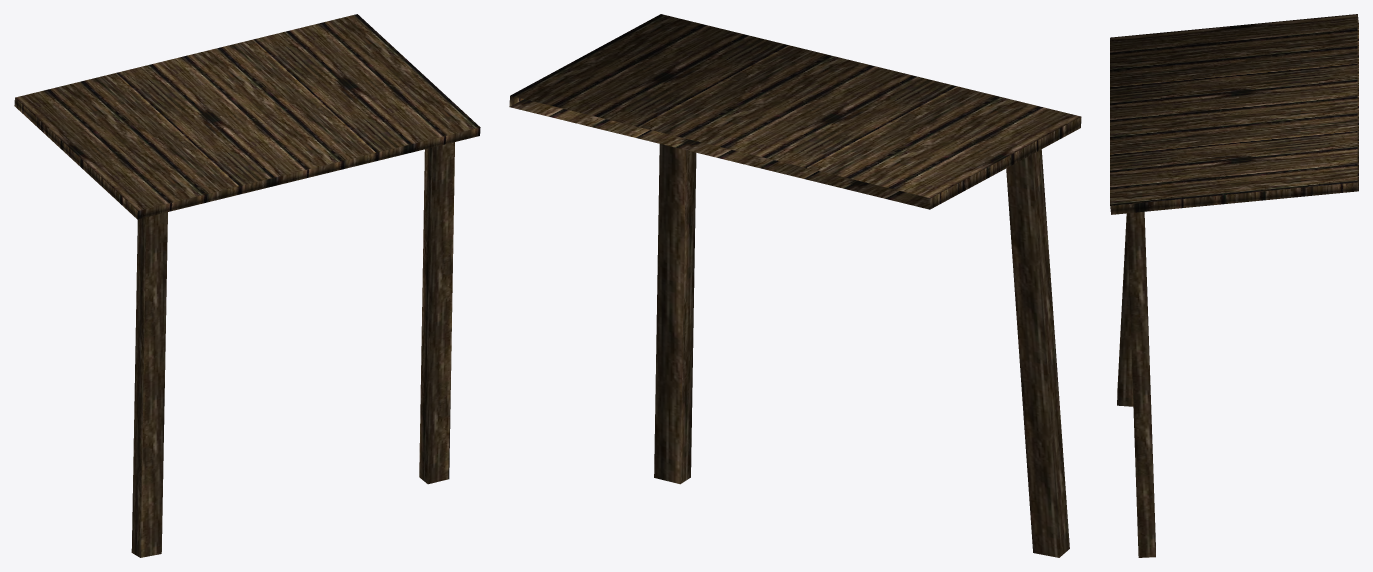
The model's file is OC_DECOROOF_V1.glb.
3 views of the same model, side by side, from view 1: azimuth 30°, elevation 25°; view 2: azimuth 150°, elevation 25°; view 3: azimuth 270°, elevation 25° (orthographic). The views are drawn at different scales.
Parts seen in each view (by area): view 1: Mesh; view 2: Mesh; view 3: Mesh.
Part boxes in pixels (x1,y1,x2,y2): Mesh: (14,14,480,557); Mesh: (509,14,1081,557); Mesh: (1110,14,1358,557).
Bounding box in the file's own units: 3.2 × 3.4 × 2.
Materials: 1 (1 with a texture image).
